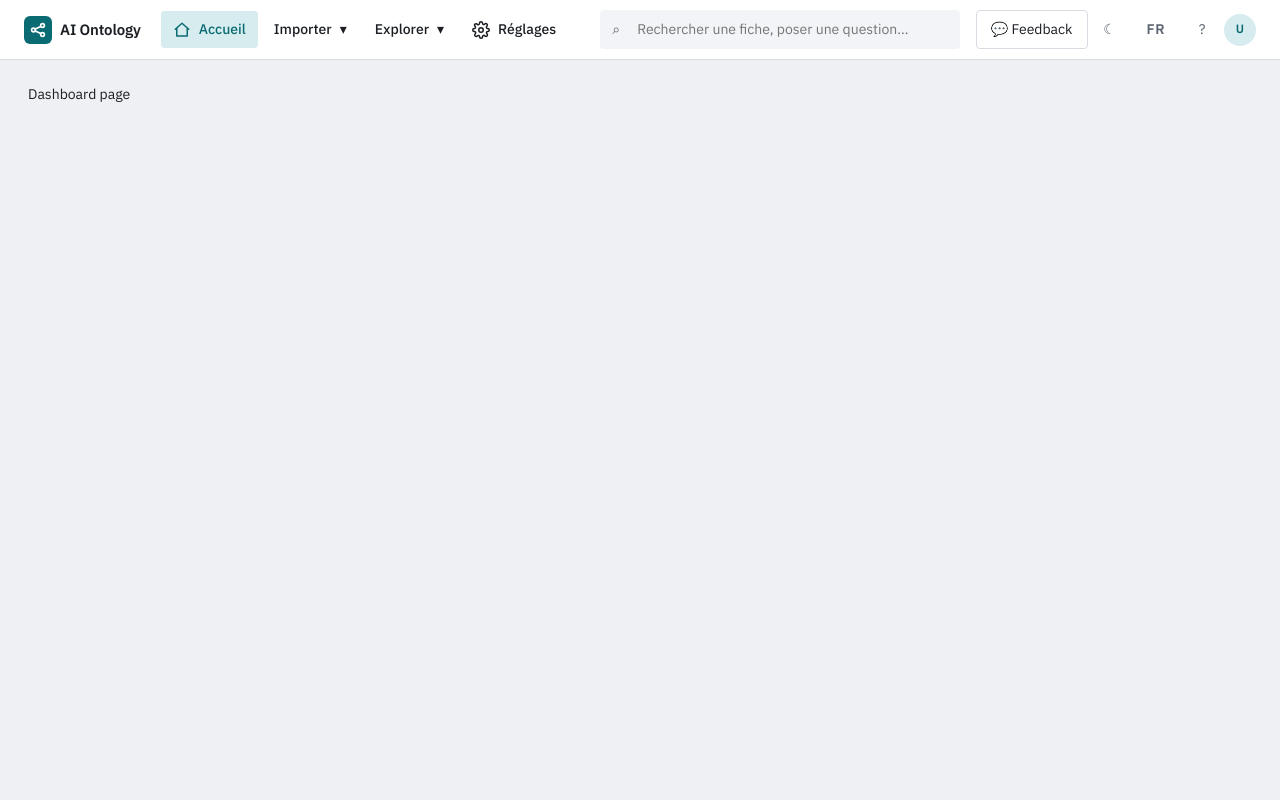
Test case: TopBar › opens the guide from the ? button
This screenshot has width=1280, height=800.
Click the button named "Guide".
click(1202, 30)  # box [1188,16,1216,44]
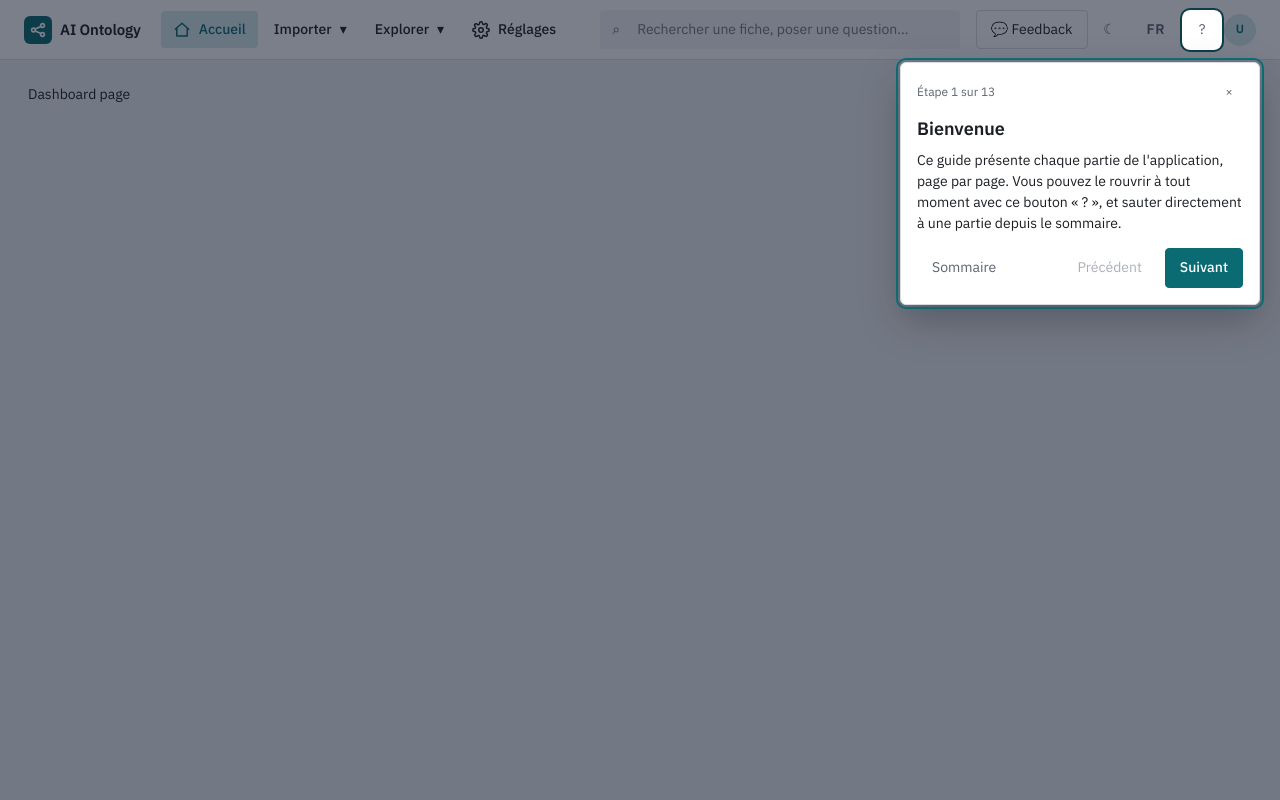
Expected: the dialog with test id "tour" is shown, [900,10,1260,305]
Expected: the heading "Bienvenue" is shown, [917,116,1005,140]
